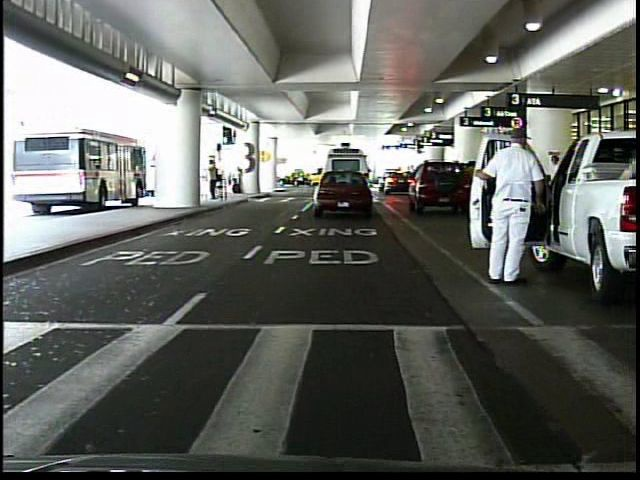person: (478, 123, 546, 290), (540, 149, 567, 221), (206, 155, 221, 203), (231, 163, 247, 198)
